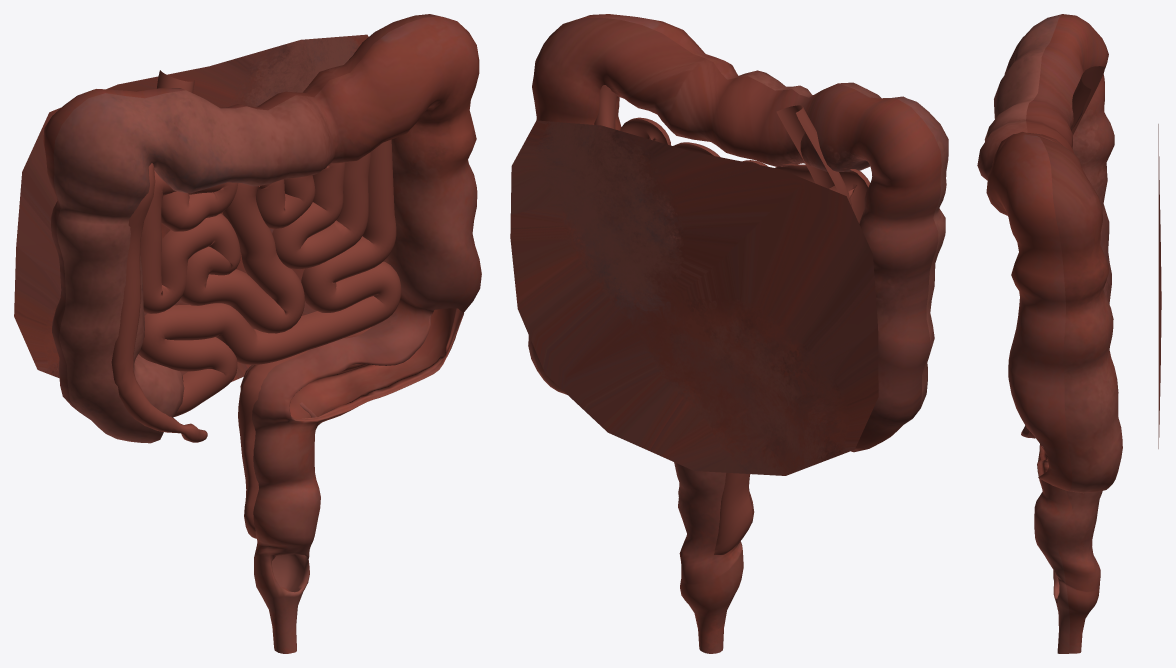
Rendered from Intestino.fbx.
3 views of the same model, side by side, from view 1: azimuth 30°, elevation 25°; view 2: azimuth 150°, elevation 25°; view 3: azimuth 270°, elevation 25° (orthographic). The views are drawn at different scales.
Visible parts, largest first — view 1: Cube.002, Cube.001, Cube; view 2: Cube, Cube.002, Cube.001; view 3: Cube.002, Cube.001, Cube.
Part boxes in pixels (left/top/right/bottom): Cube.002: left=43, top=14, right=481, bottom=653; Cube.001: left=138, top=70, right=401, bottom=417; Cube: left=14, top=34, right=368, bottom=381; Cube: left=510, top=120, right=878, bottom=475; Cube.002: left=528, top=14, right=948, bottom=653; Cube.001: left=620, top=105, right=869, bottom=223; Cube.002: left=977, top=14, right=1122, bottom=653; Cube.001: left=1071, top=66, right=1105, bottom=134; Cube: left=1158, top=124, right=1161, bottom=448.
Size of the model in its own units: 1215 by 1700 by 511.
